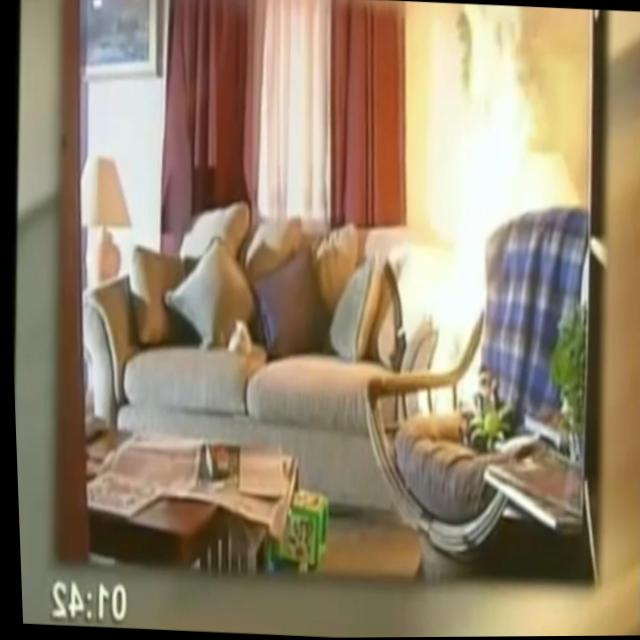fire: (403, 2, 551, 420)
